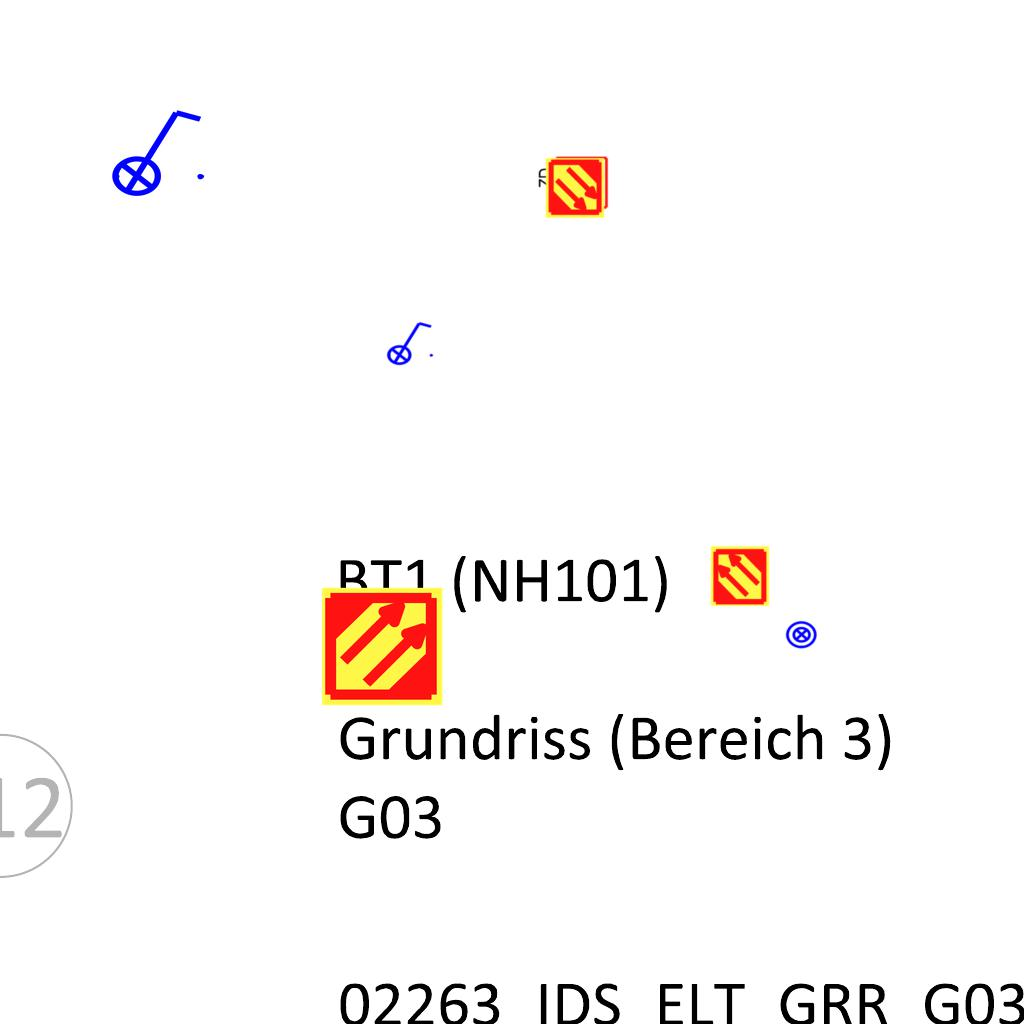ASR_Ansaugrauchmelder: (320, 584, 445, 709), (709, 545, 771, 607), (544, 157, 606, 219)
Ausschalter_beleuchtet: (98, 102, 210, 198), (380, 318, 436, 366)
Taster_beleuchtet: (785, 618, 818, 651)
ZD_Melder_in_Zwischendecke_mit_Revisionsoeffnung_mind_40_x_40_cm: (535, 155, 609, 212)
